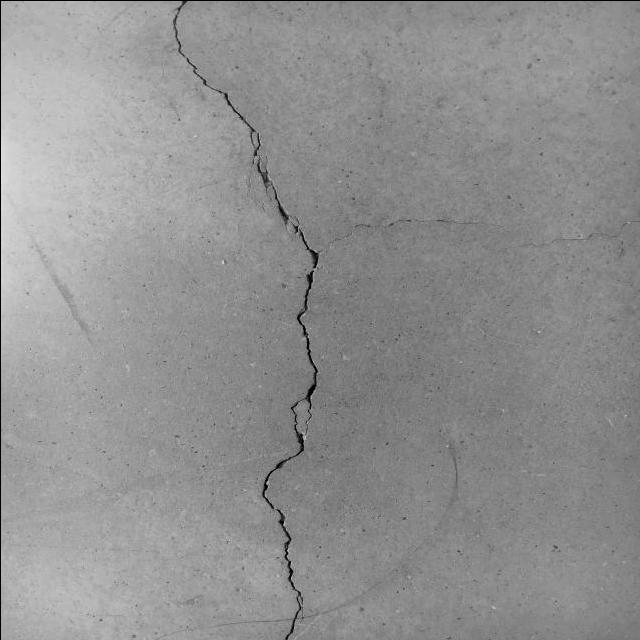SurfaceCrack: (142, 0, 356, 638)
